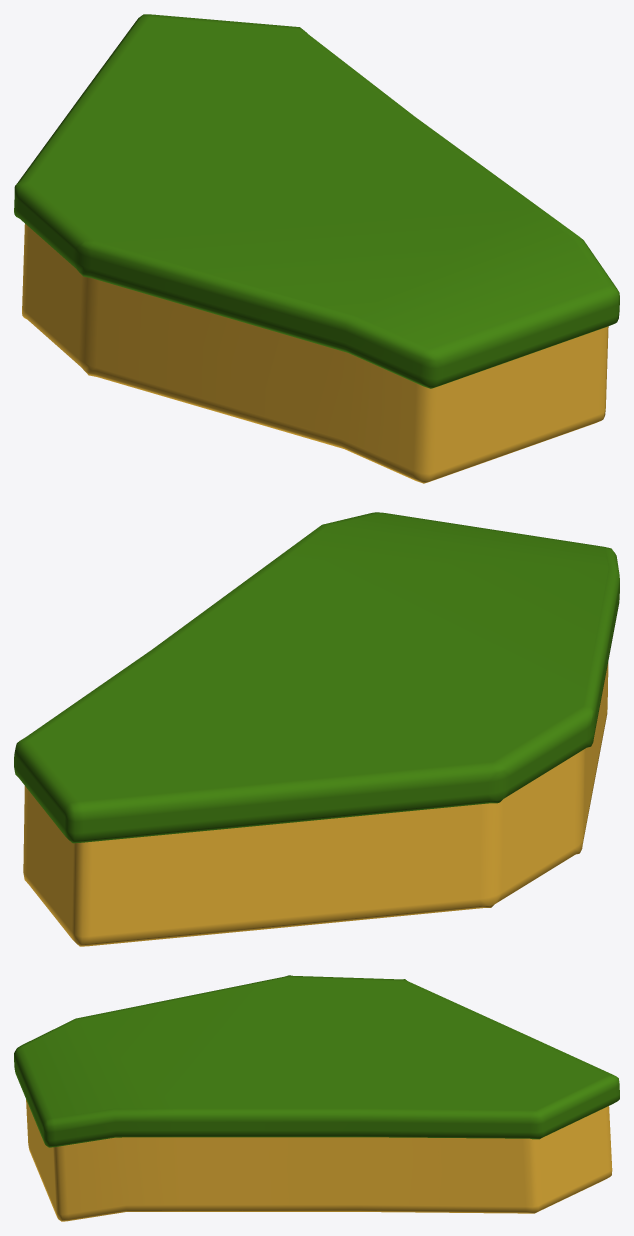
File: SM_erhebung_01.fbx
3 renders of one model, top to bottom at view 1: azimuth 30°, elevation 25°; view 2: azimuth 150°, elevation 25°; view 3: azimuth 270°, elevation 25°, orthographic. The views are drawn at different scales.
Parts seen in each view (by area): view 1: erhebung_01.001; view 2: erhebung_01.001; view 3: erhebung_01.001.
Boxes of the visible parts, x1,y1,x2,y2 form: erhebung_01.001: (14,14,619,483); erhebung_01.001: (14,512,619,946); erhebung_01.001: (14,975,619,1221).
Size of the model in its own units: 360 by 137 by 650.
